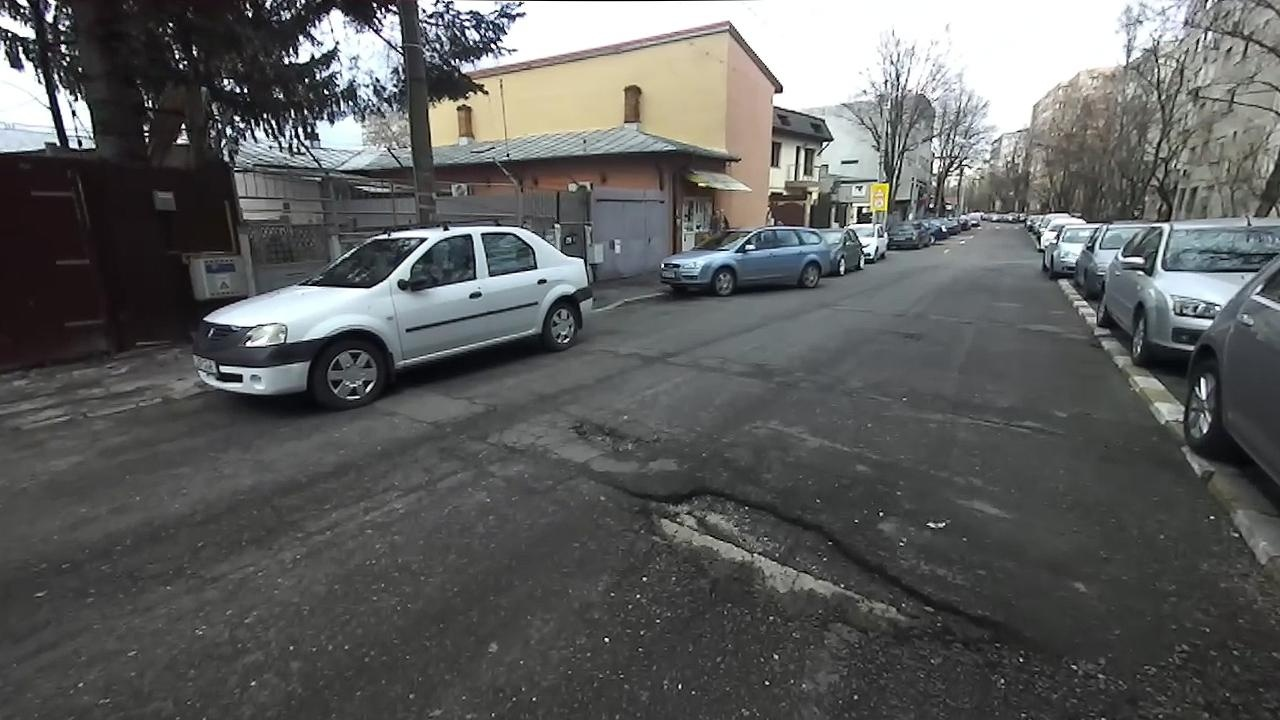pothole: (601, 472, 1045, 659), (564, 409, 663, 457), (954, 405, 1067, 442)
